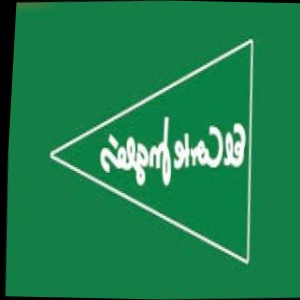corte_ingles: (74, 242, 300, 285)
